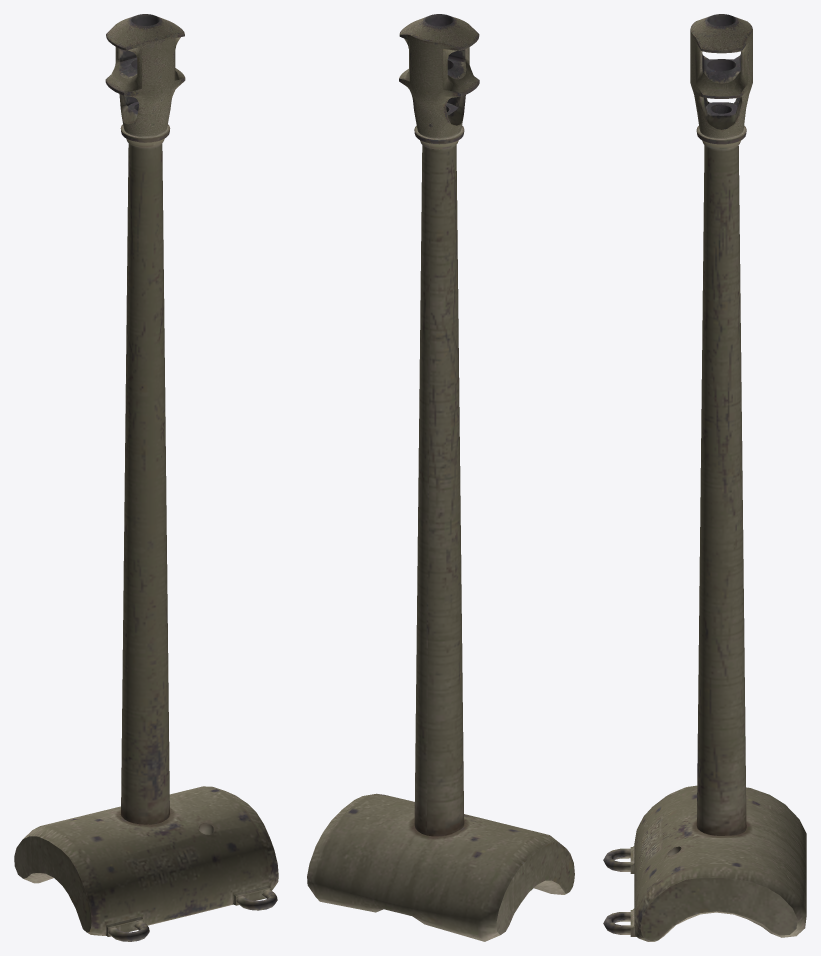
Rendered from Gun_02.glb.
The picture shows the model from 3 angles, left to right: view 1: azimuth 30°, elevation 25°; view 2: azimuth 150°, elevation 25°; view 3: azimuth 270°, elevation 25°; orthographic projection.
Visible parts, largest first — view 1: set_0_group_0; view 2: set_0_group_0; view 3: set_0_group_0.
Boxes of the visible parts, x1,y1,x2,y2 form: set_0_group_0: (14,14,278,941); set_0_group_0: (307,14,574,941); set_0_group_0: (603,14,806,941).
Size of the model in its own units: 1.14 by 5.03 by 1.06.
1 material, 1 textured.
